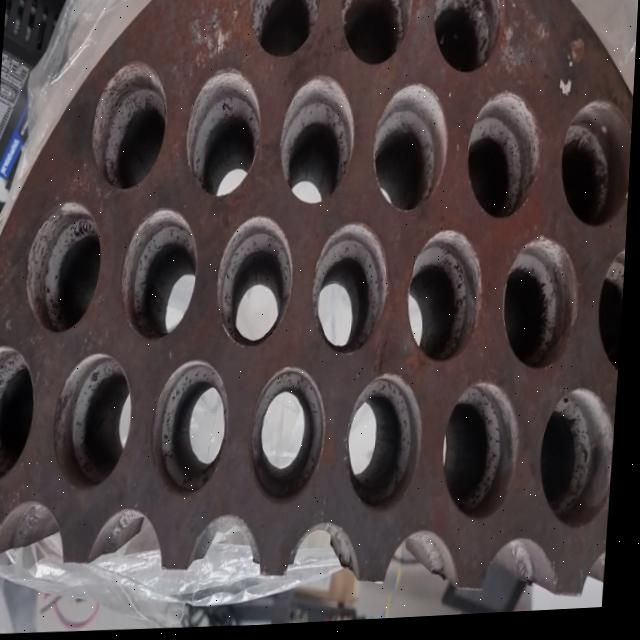Hole: (346, 375, 430, 520), (444, 385, 529, 527), (250, 368, 332, 512), (55, 353, 139, 493), (311, 223, 396, 360), (120, 208, 204, 346), (216, 215, 300, 352), (503, 241, 586, 379), (154, 361, 235, 501), (370, 84, 454, 219), (407, 232, 489, 370), (541, 393, 620, 535), (184, 68, 265, 204), (26, 201, 107, 337), (89, 61, 171, 195), (278, 77, 360, 209), (465, 96, 546, 228), (559, 105, 635, 237), (429, 0, 506, 81), (0, 344, 42, 485), (338, 0, 413, 74), (245, 0, 321, 64), (597, 251, 629, 383)
